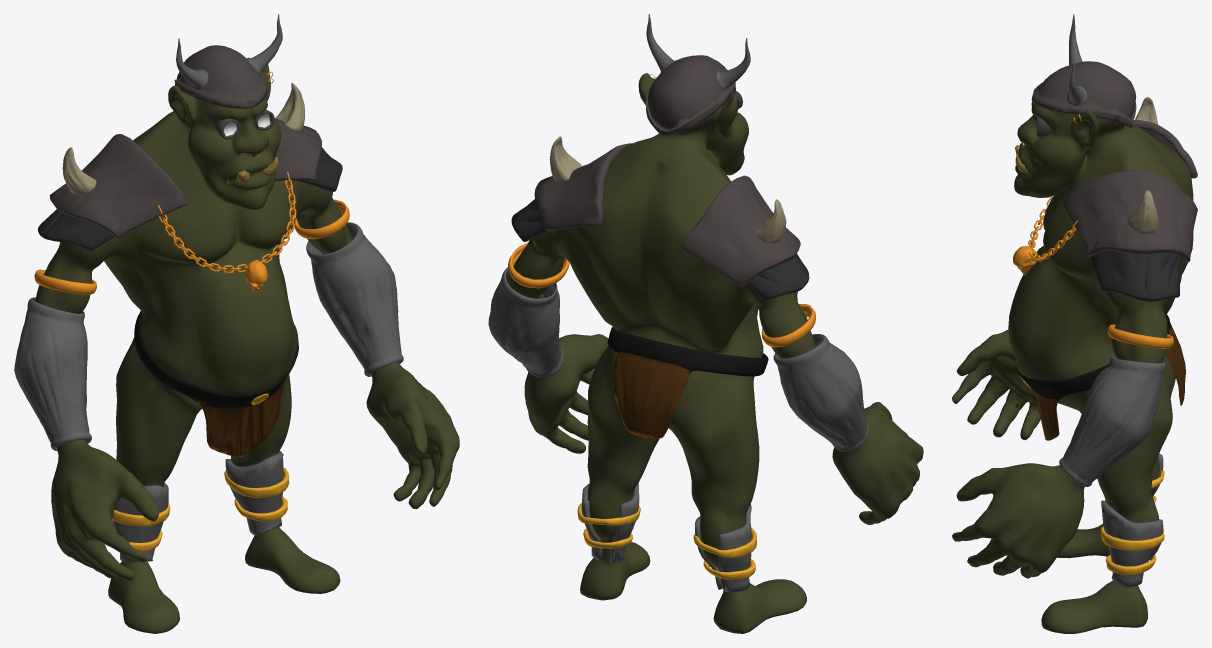
Rendered from charakter-LP.fbx.
The picture shows the model from 3 angles, left to right: view 1: azimuth 30°, elevation 25°; view 2: azimuth 150°, elevation 25°; view 3: azimuth 270°, elevation 25°; orthographic projection. The views are drawn at different scales.
Visible parts, largest first — view 1: CharakterLP; view 2: CharakterLP; view 3: CharakterLP.
Boxes of the visible parts, bbox=[...] form: CharakterLP: bbox=[14, 14, 459, 633]; CharakterLP: bbox=[488, 14, 923, 633]; CharakterLP: bbox=[952, 14, 1197, 633].
Bounding box in the file's own units: 341 × 487 × 197.
